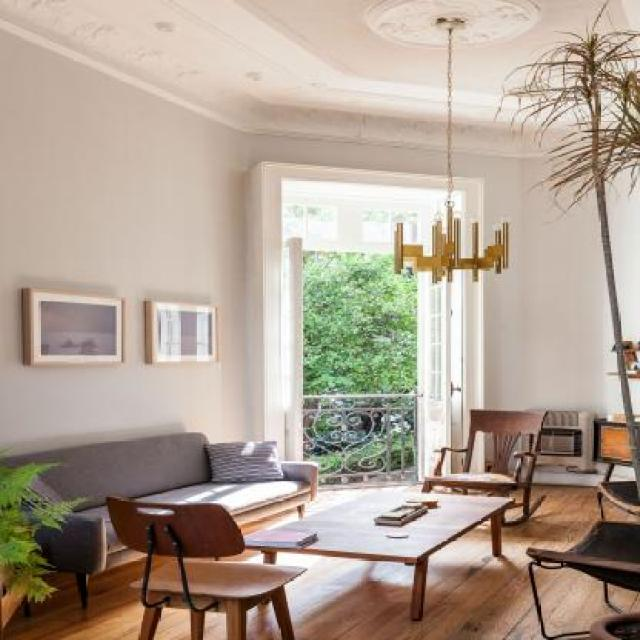floor: (265, 483, 606, 640), (6, 558, 150, 640)
